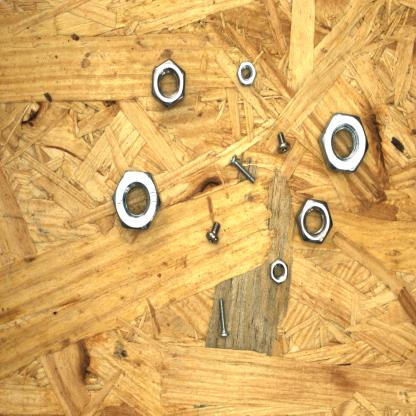screw: (226, 152, 260, 185), (214, 296, 233, 342), (202, 219, 225, 248), (274, 130, 292, 162)
